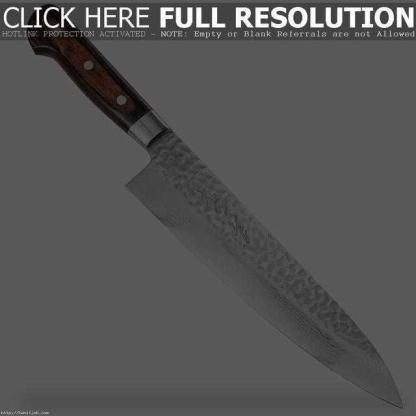Knife: (25, 9, 410, 412)
